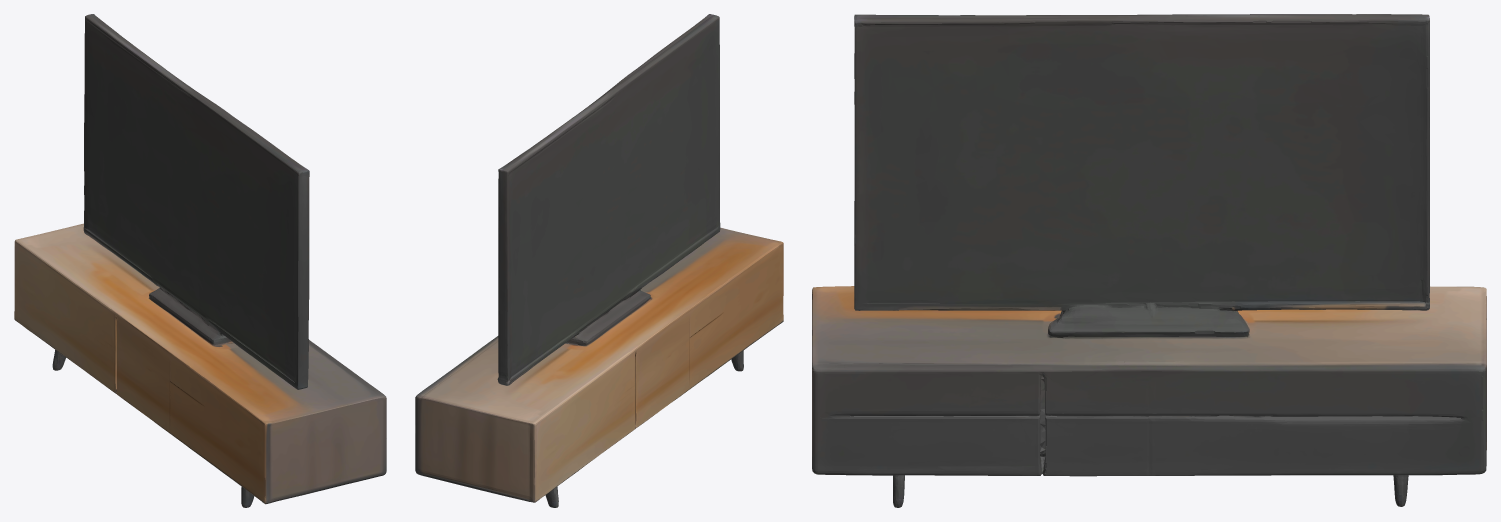
3 renders of one model, left to right at view 1: azimuth 30°, elevation 25°; view 2: azimuth 150°, elevation 25°; view 3: azimuth 270°, elevation 25°, orthographic. The views are drawn at different scales.
Parts seen in each view (by area): view 1: television_17.obj; view 2: television_17.obj; view 3: television_17.obj.
Boxes of the visible parts, x1,y1,x2,y2 form: television_17.obj: (14,14,386,507); television_17.obj: (415,14,783,507); television_17.obj: (812,14,1486,507).
Bounding box in the file's own units: 0.2819 × 0.7425 × 1.
Materials: 1 (1 with a texture image).
